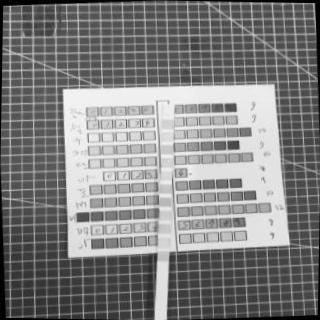mark: (160, 170, 172, 182), (159, 184, 172, 194), (162, 131, 174, 141), (160, 144, 172, 154), (158, 210, 170, 220), (158, 223, 170, 233), (158, 237, 168, 247), (162, 119, 173, 128), (160, 197, 171, 206), (160, 158, 172, 166), (158, 251, 168, 260), (162, 106, 173, 114)
